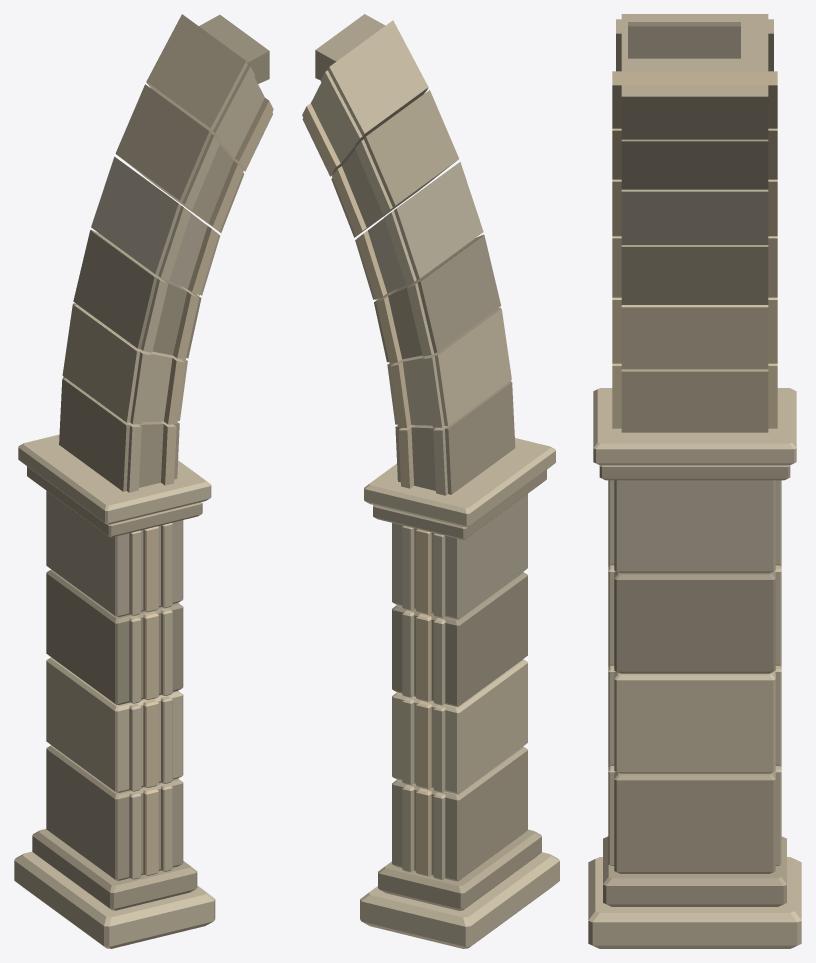
The model's file is Arch_Fragment_L_4m.fbx.
3 views of the same model, side by side, from view 1: azimuth 30°, elevation 25°; view 2: azimuth 150°, elevation 25°; view 3: azimuth 270°, elevation 25° (orthographic). The views are drawn at different scales.
Visible parts, largest first — view 1: Arch_Fragment_L_4m; view 2: Arch_Fragment_L_4m; view 3: Arch_Fragment_L_4m.
Boxes of the visible parts, left/top/right/bottom form: Arch_Fragment_L_4m: left=14, top=14, right=273, bottom=948; Arch_Fragment_L_4m: left=302, top=14, right=559, bottom=948; Arch_Fragment_L_4m: left=588, top=14, right=801, bottom=948.
Size of the model in its own units: 1.15 by 5.08 by 1.02.
